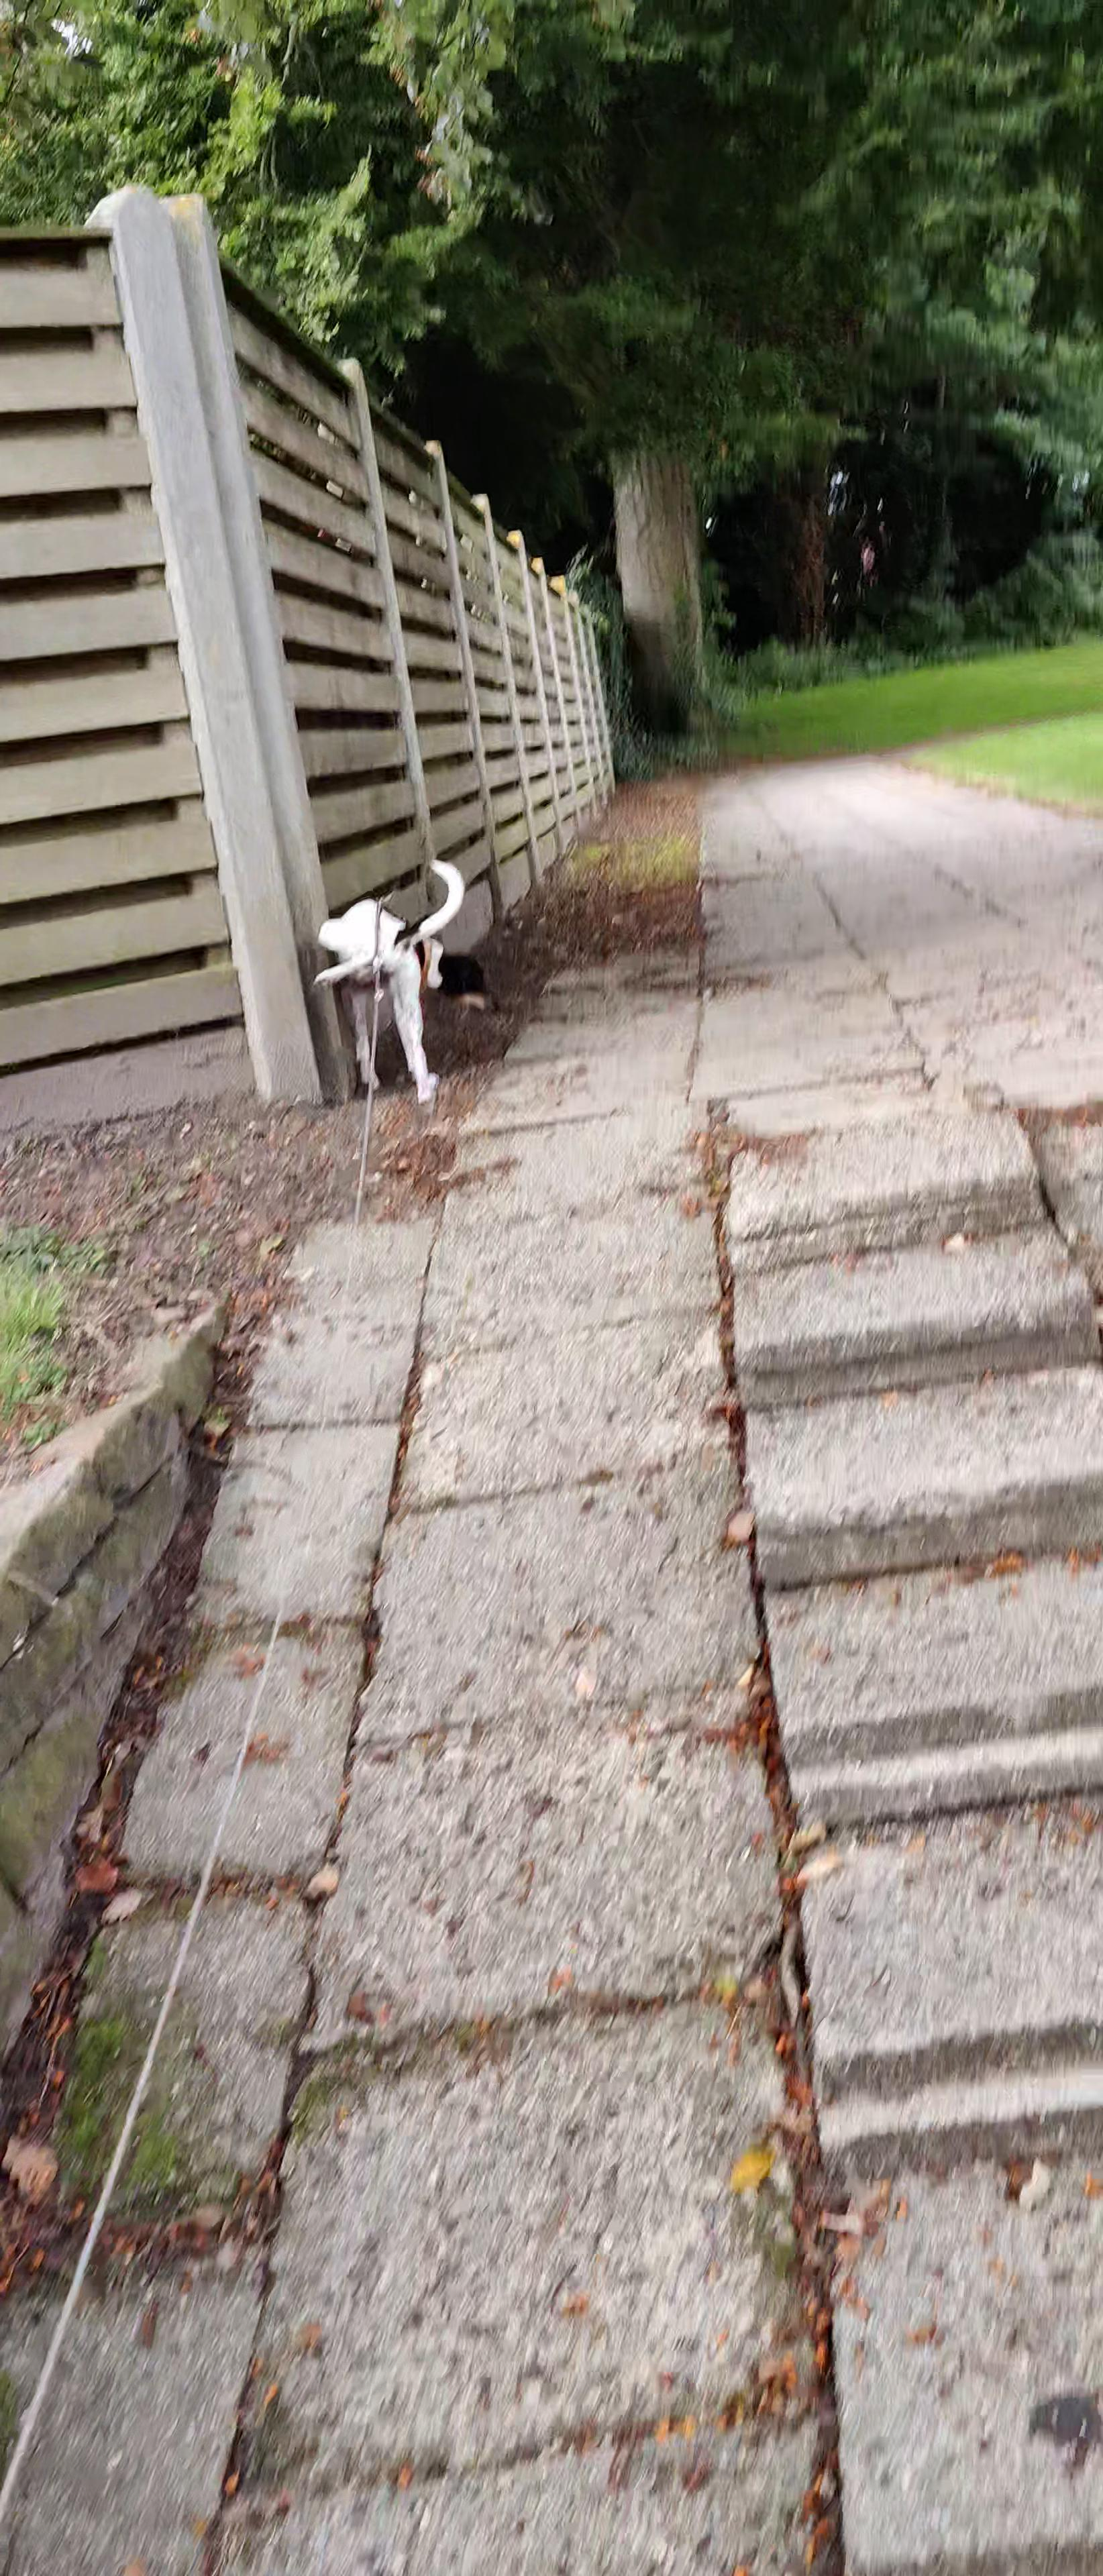Dog: (306, 849, 501, 1109)
